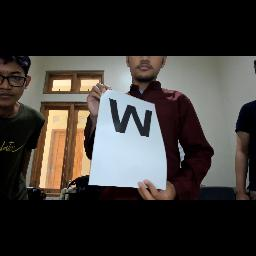w: (106, 97, 160, 139)
